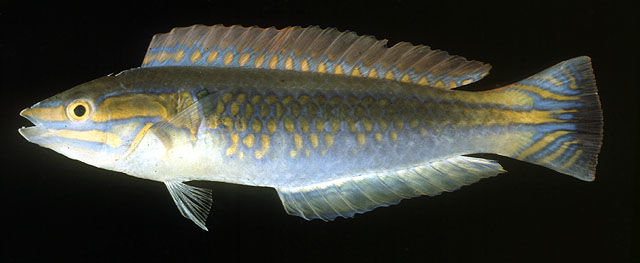fish: (18, 24, 604, 232)
